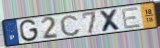2: (40, 16, 60, 41)
7: (81, 10, 98, 35)
C: (58, 13, 81, 37)
E: (120, 6, 142, 30)
G: (19, 18, 39, 42)
X: (98, 8, 123, 33)
